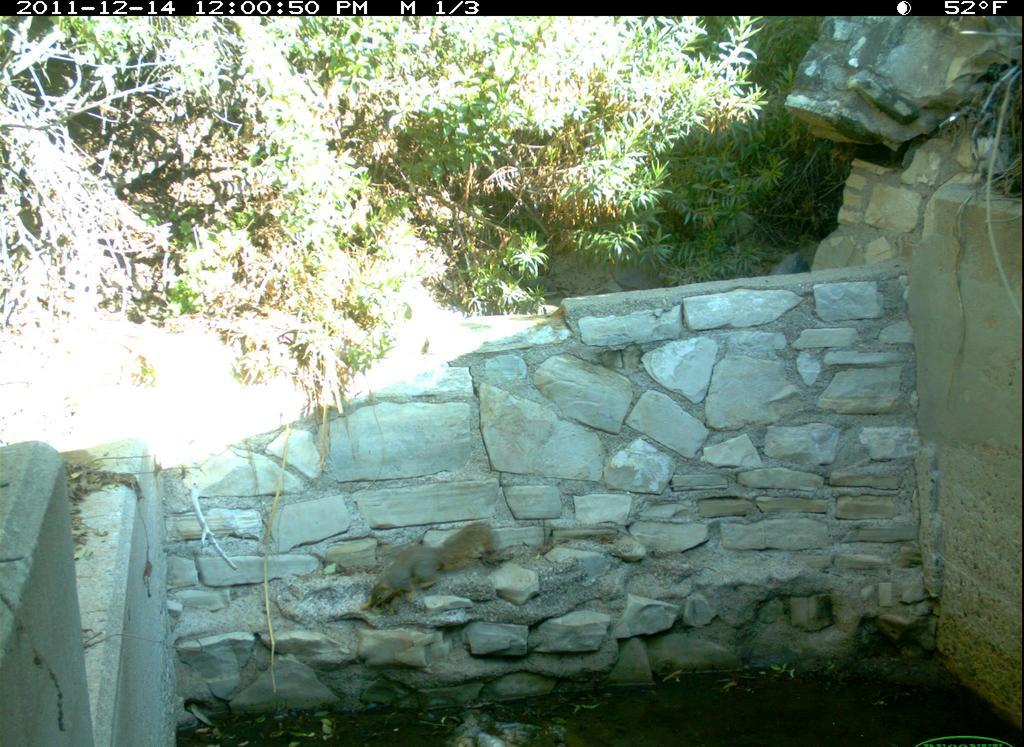squirrel: (336, 509, 505, 619)
